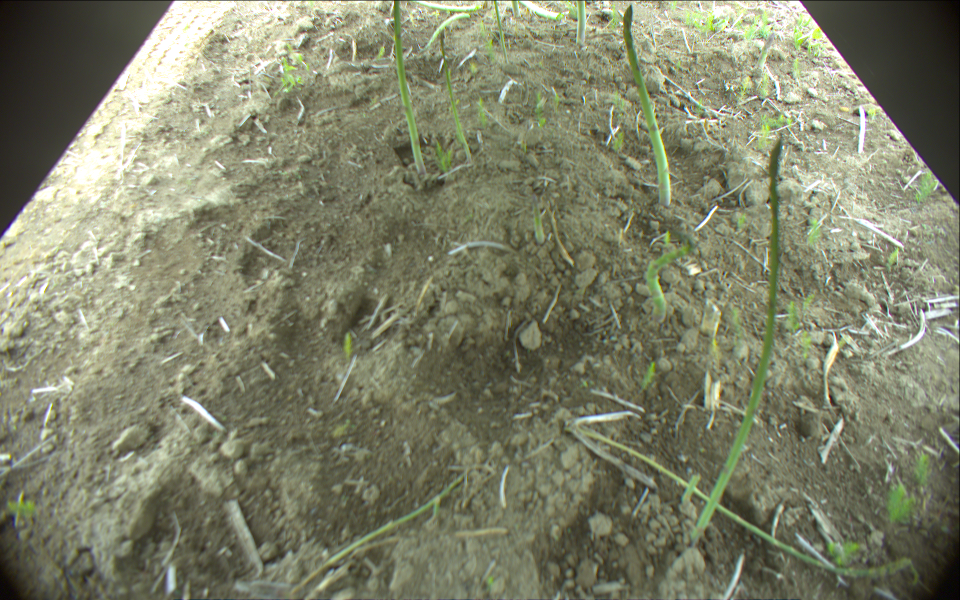aspa: (568, 425, 914, 574), (692, 135, 784, 545), (622, 4, 675, 208), (393, 1, 427, 177), (440, 33, 471, 159), (646, 245, 689, 324), (426, 12, 471, 50), (493, 1, 508, 64), (754, 31, 775, 72), (531, 192, 547, 244), (412, 1, 481, 13), (522, 1, 563, 20), (574, 1, 588, 44), (513, 1, 522, 18)
